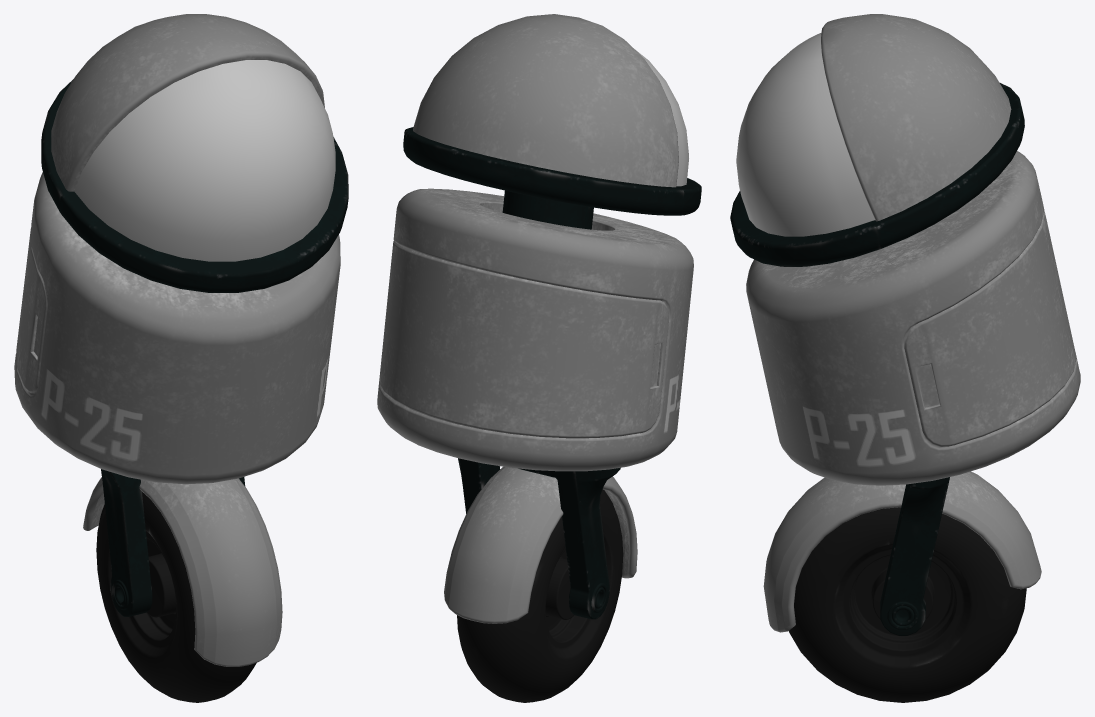
The model's file is player_mesh.fbx.
The picture shows the model from 3 angles, left to right: view 1: azimuth 30°, elevation 25°; view 2: azimuth 150°, elevation 25°; view 3: azimuth 270°, elevation 25°; orthographic projection. The views are drawn at different scales.
Parts seen in each view (by area): view 1: player_mesh; view 2: player_mesh; view 3: player_mesh.
Boxes of the visible parts, left/top/right/bottom form: player_mesh: left=14, top=14, right=348, bottom=702; player_mesh: left=377, top=14, right=701, bottom=702; player_mesh: left=730, top=14, right=1080, bottom=702.
Size of the model in its own units: 50 by 119 by 56.53.
1 material, 1 textured.
